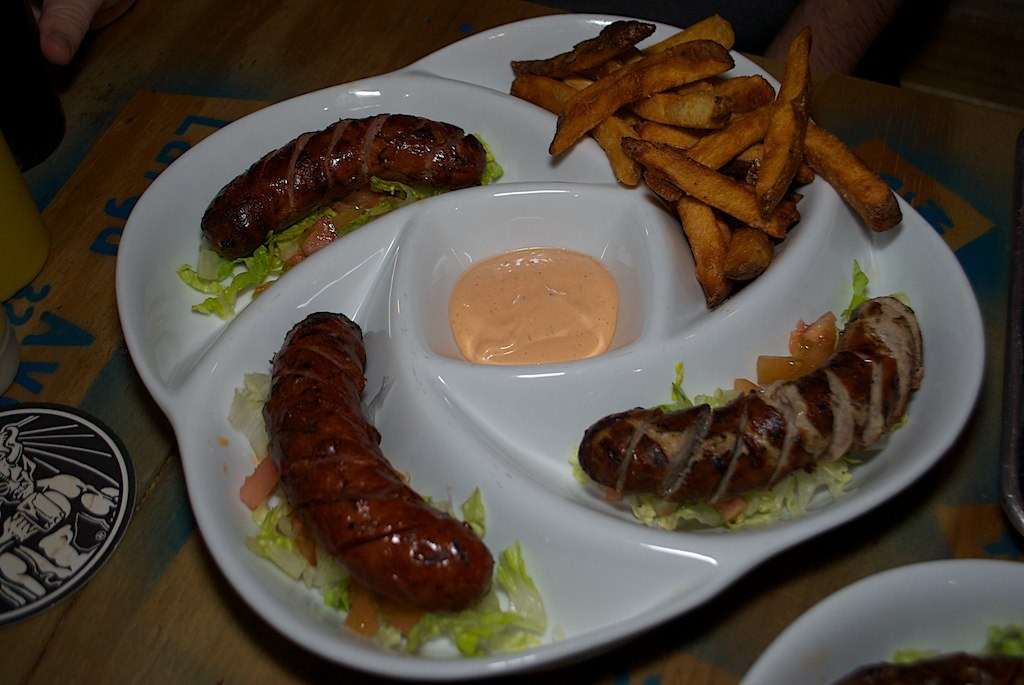French fries: (515, 18, 892, 276)
